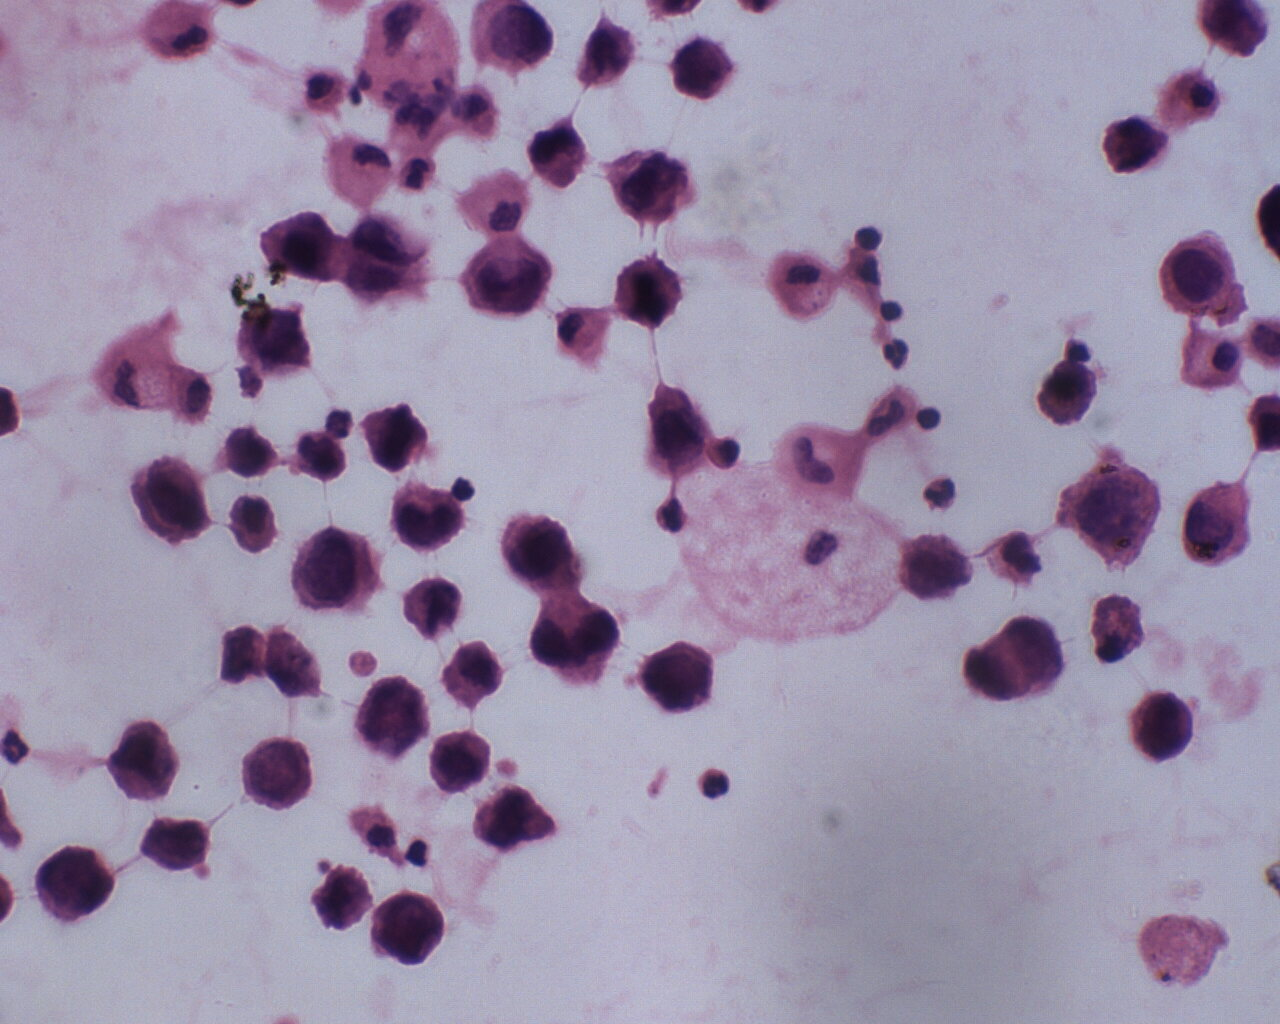ab: (1060, 460, 1169, 573), (599, 141, 699, 234), (285, 525, 380, 615), (1154, 232, 1250, 322), (455, 235, 554, 320), (1174, 476, 1261, 573), (129, 452, 214, 543), (256, 197, 336, 290), (366, 890, 450, 976), (30, 845, 120, 925), (497, 513, 587, 592), (465, 1, 551, 80), (472, 783, 561, 858), (106, 724, 189, 804), (639, 639, 717, 725), (388, 478, 469, 554), (611, 249, 686, 330), (233, 300, 310, 378), (355, 677, 430, 757), (239, 734, 313, 813), (1128, 686, 1198, 768), (425, 723, 498, 798), (307, 859, 380, 934), (439, 634, 510, 712), (133, 815, 218, 876), (362, 403, 432, 475), (1097, 115, 1173, 180), (669, 34, 734, 102), (223, 427, 275, 479)
histo: (325, 132, 397, 213), (770, 254, 836, 327)
lymph: (912, 403, 948, 432)
meso: (1176, 323, 1250, 396)
neutro: (652, 488, 693, 536), (693, 765, 735, 802), (921, 473, 960, 510), (879, 332, 914, 373), (1, 728, 33, 769)
